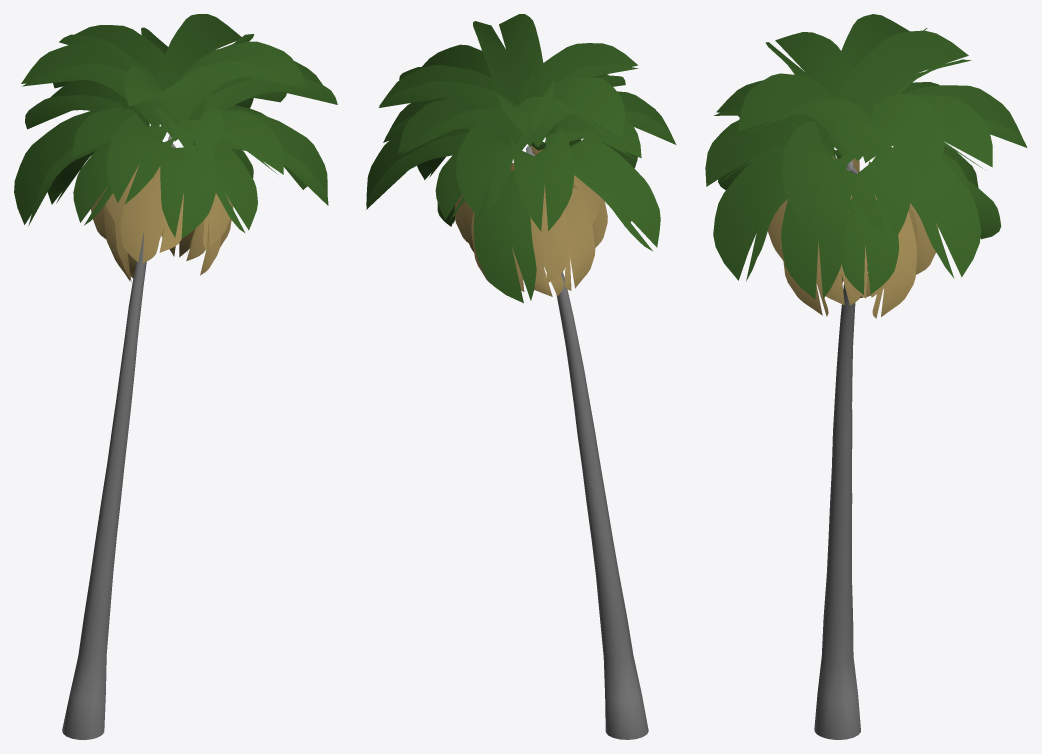
File: SM_palm_tree_tropical_04.fbx
3 renders of one model, left to right at view 1: azimuth 30°, elevation 25°; view 2: azimuth 150°, elevation 25°; view 3: azimuth 270°, elevation 25°, orthographic. The views are drawn at different scales.
Visible parts, largest first — view 1: Object32258; view 2: Object32258; view 3: Object32258.
Part boxes in pixels (left/top/right/bottom): Object32258: left=14, top=14, right=337, bottom=739; Object32258: left=366, top=14, right=676, bottom=739; Object32258: left=705, top=14, right=1027, bottom=739.
Size of the model in its own units: 141 by 315 by 128.
